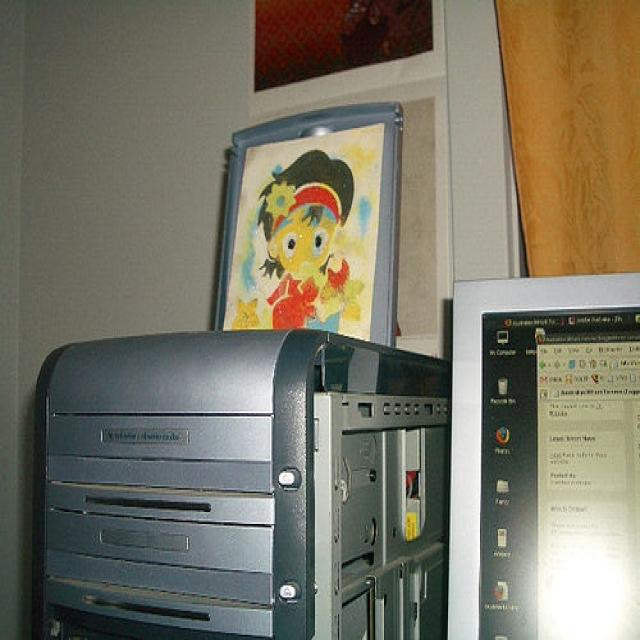tvmonitor: (452, 278, 640, 640)
